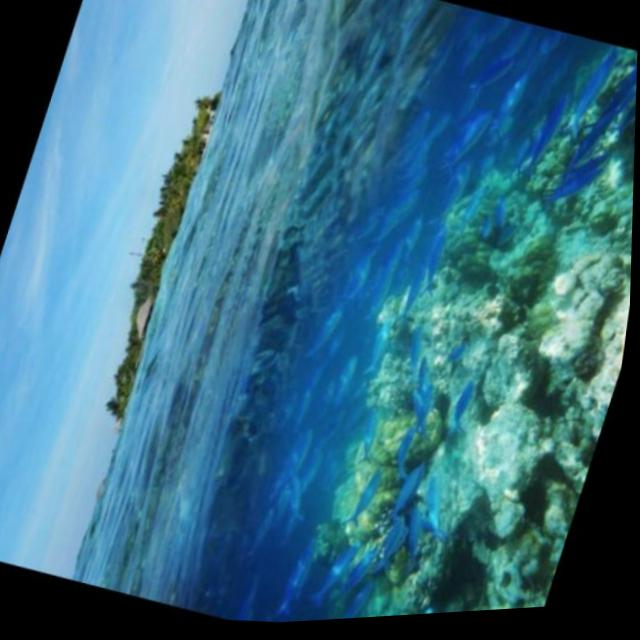Dead Coral: (389, 89, 637, 621)
